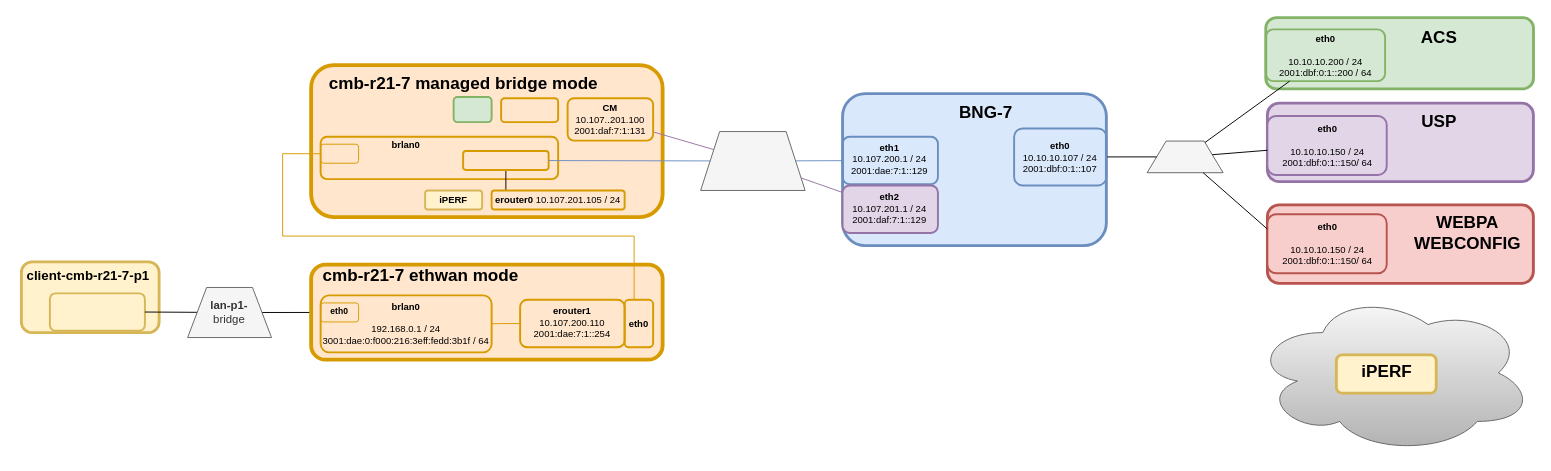
The diagram is 1551 pixels wide and 471 high, and some of its shapes have lost their labels. The box of each missing label's shape, as (x1, y1, x2, y2) in pixels:
erouter0_pipe: (462, 150, 549, 170)
eth0 192.168.0.115 / 24 3001:dae:0:f000::da 3001:dae:0:f000:216:3eff:fe94:807c: (48, 292, 145, 331)
eth0..3: (320, 143, 359, 163)
lxdbr1: (1146, 140, 1223, 173)
RG:CM tunnel: (500, 97, 559, 123)
TR069: (452, 96, 492, 123)
wan- bridge cm- bridge: (700, 131, 805, 190)
